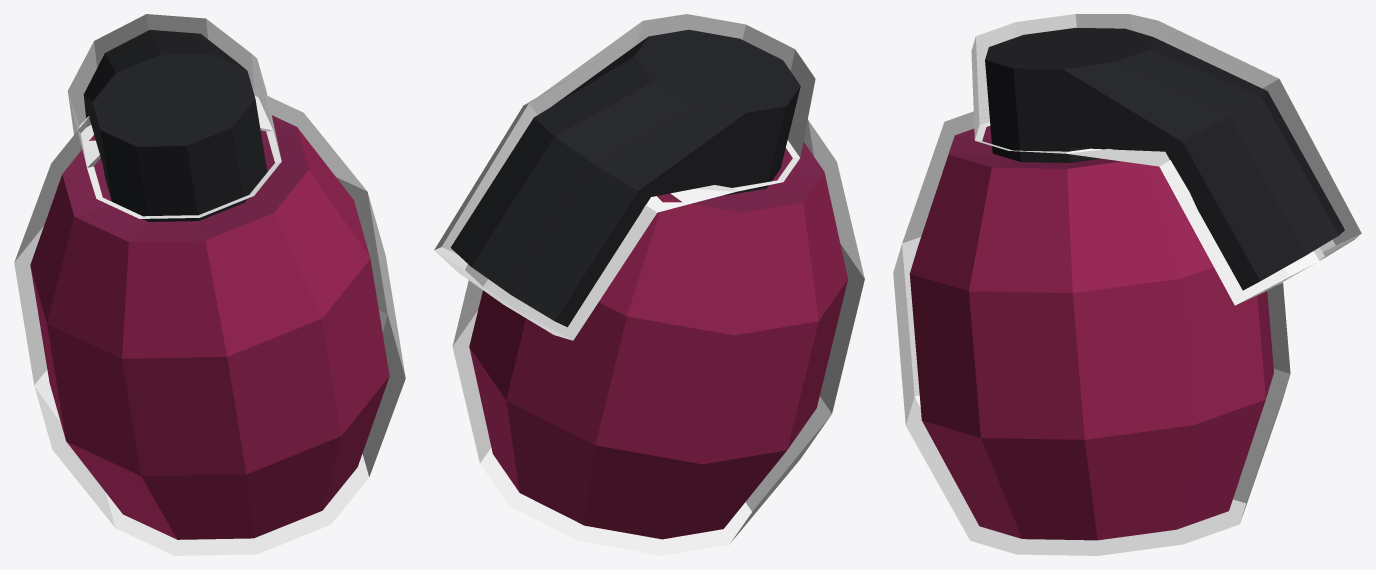
The model's file is GrenadeFragSeparate.gltf.
3 renders of one model, left to right at view 1: azimuth 30°, elevation 25°; view 2: azimuth 150°, elevation 25°; view 3: azimuth 270°, elevation 25°, orthographic. The views are drawn at different scales.
Visible parts, largest first — view 1: GrenadeFrag; view 2: GrenadeFrag; view 3: GrenadeFrag.
Boxes of the visible parts, <box> form: GrenadeFrag: <box>14,14,405,555</box>; GrenadeFrag: <box>434,14,864,555</box>; GrenadeFrag: <box>893,14,1361,555</box>.
Bounding box in the file's own units: 0.049 × 0.0633 × 0.0547.
Materials: 2 (1 with a texture image).
